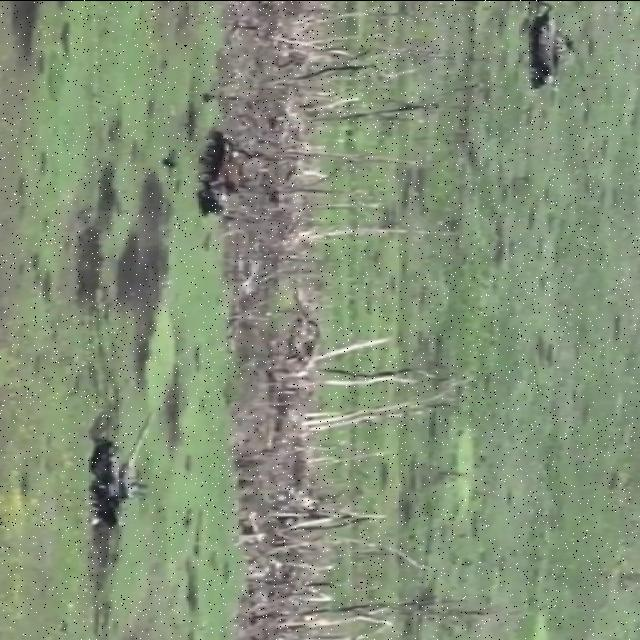TANK: (80, 404, 171, 526), (189, 124, 269, 218), (520, 5, 578, 109)
